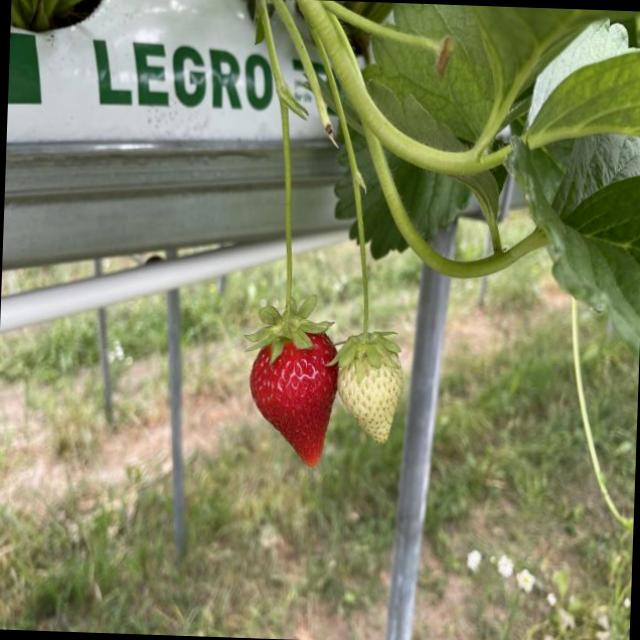stem: (246, 1, 328, 361), (334, 75, 399, 377)
strawberryNR: (337, 357, 401, 442)
strawberryR: (249, 334, 335, 463)
